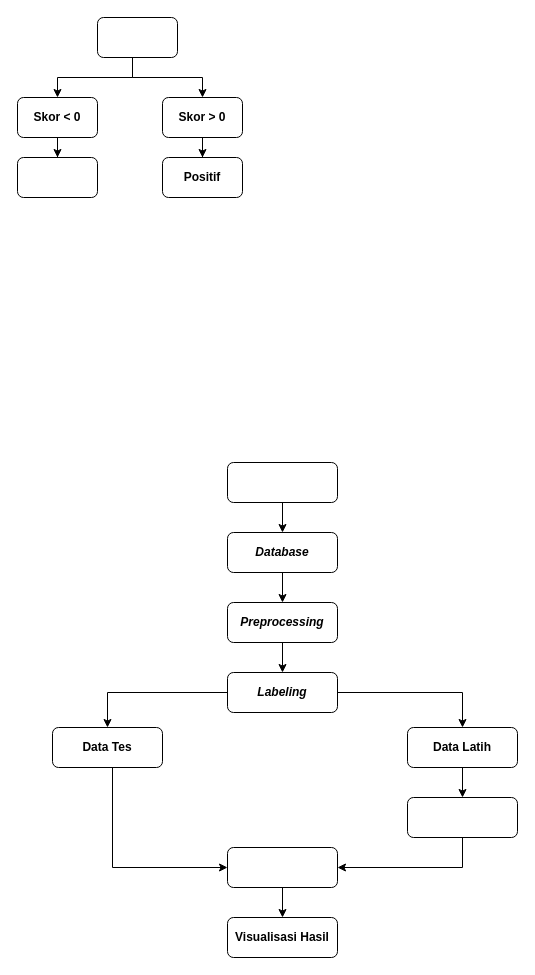
The diagram is 535 pixels wide and 975 high, and some of its shapes have lost their labels. Here are the shapes that lost their labels. From the top down, the centre of each, then its label:
At point 137,37: "Kalimat ( tweet )".
At point 57,177: "Negatif".
At point 282,482: "Twitter".
At point 462,817: "Modeling".
At point 282,867: "Testing & Evaluasi".
